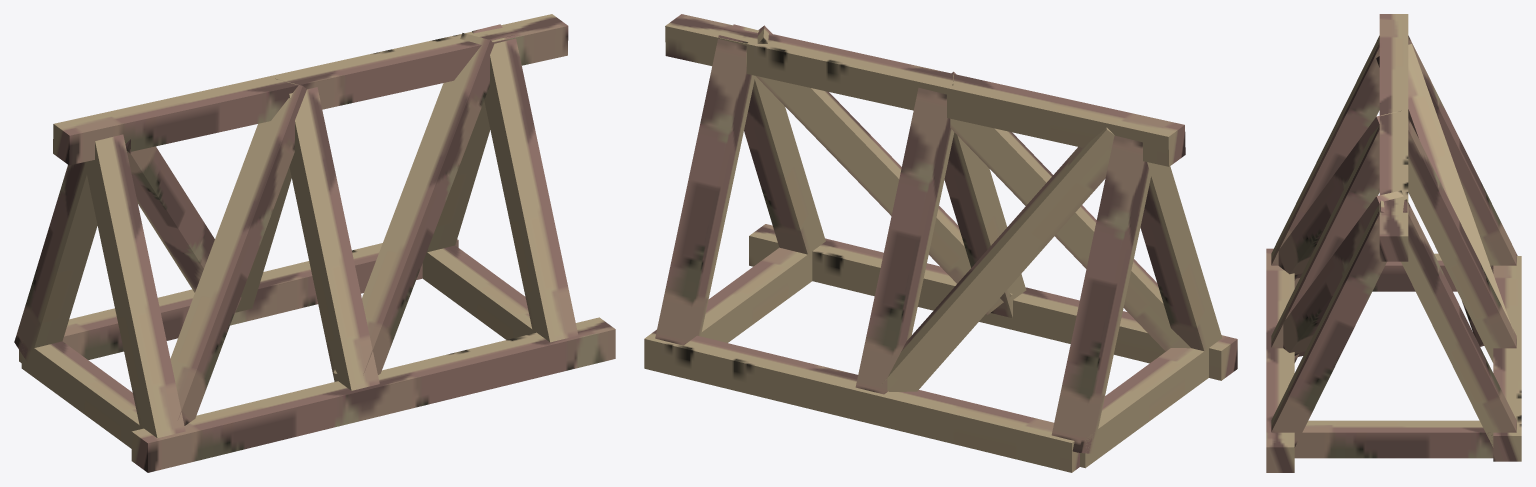
File: Building_AncientCraneArm__RuinedCraneArm.obj
The picture shows the model from 3 angles, left to right: view 1: azimuth 30°, elevation 25°; view 2: azimuth 150°, elevation 25°; view 3: azimuth 270°, elevation 25°; orthographic projection. The views are drawn at different scales.
Parts seen in each view (by area): view 1: Body; view 2: Body; view 3: Body.
Part boxes in pixels (<box>): Body: <box>14,14,615,472</box>; Body: <box>644,14,1237,472</box>; Body: <box>1266,14,1521,472</box>.
Bounding box in the file's own units: 1.77 × 0.99 × 0.9.
1 material, 1 textured.
